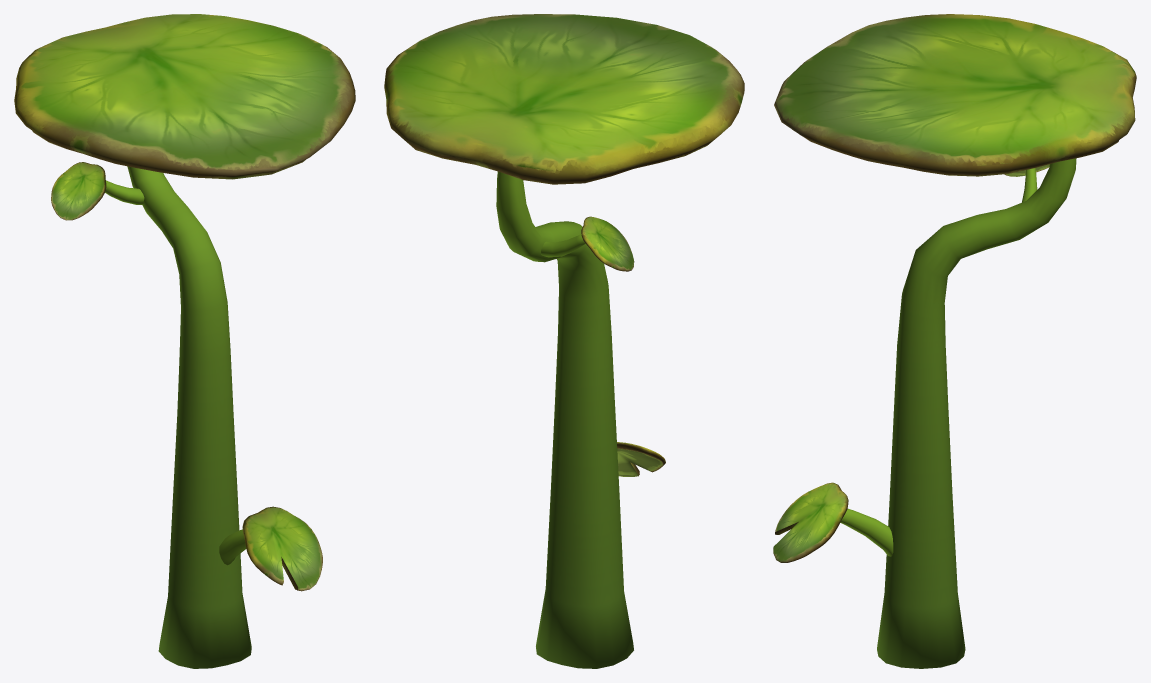
File: LeafPlatform___.fbx
3 views of the same model, side by side, from view 1: azimuth 30°, elevation 25°; view 2: azimuth 150°, elevation 25°; view 3: azimuth 270°, elevation 25° (orthographic). The views are drawn at different scales.
Visible parts, largest first — view 1: Object006, Object005; view 2: Object006, Object005; view 3: Object006, Object005.
Boxes of the visible parts, x1,y1,x2,y2 form: Object006: (14,14,355,591); Object005: (105,166,251,668); Object006: (384,14,744,476); Object005: (496,171,633,668); Object006: (773,14,1136,562); Object005: (840,158,1076,668).
Size of the model in its own units: 7.2 by 12.59 by 7.32.
